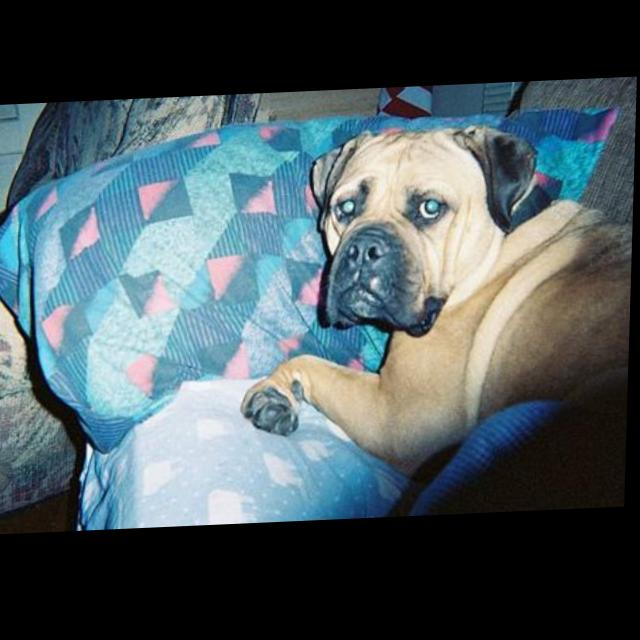bullmastiff: (242, 123, 637, 496)
